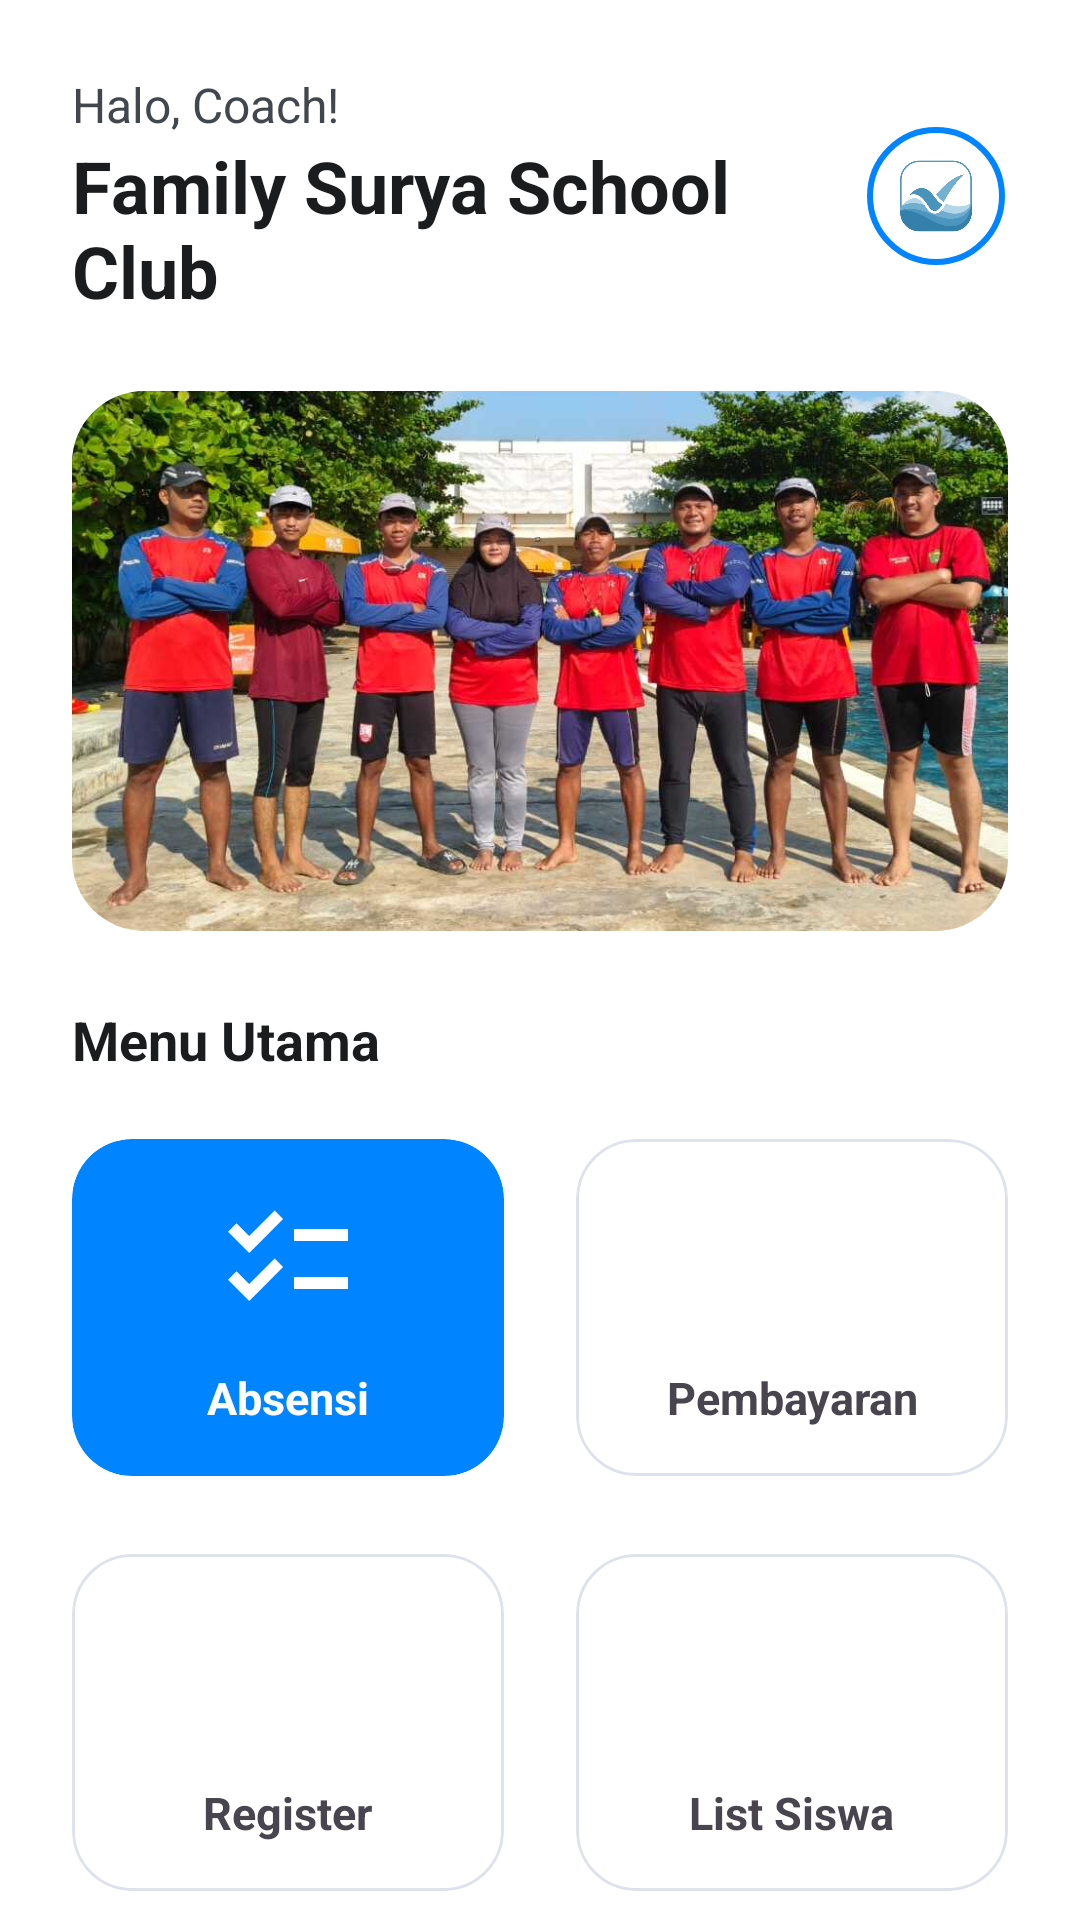

Named icons in this screenshot (1080w x 1920h) and their centers, (x,y):
attendance: (288,1255)
